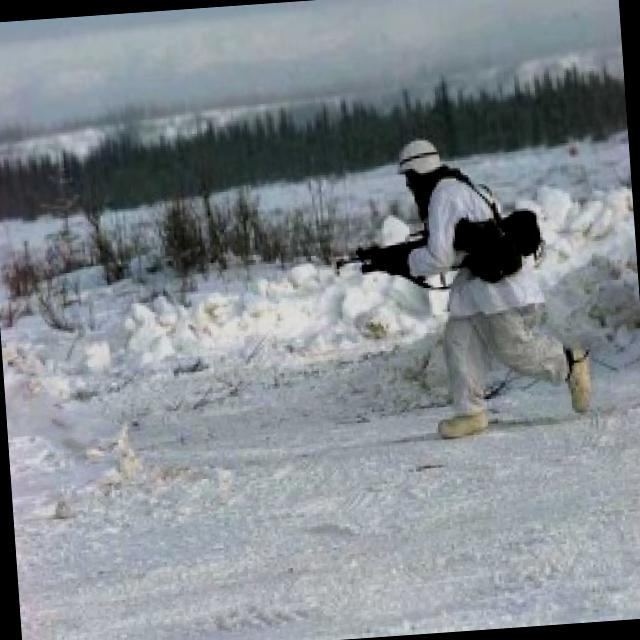long weapon: (310, 221, 437, 296)
